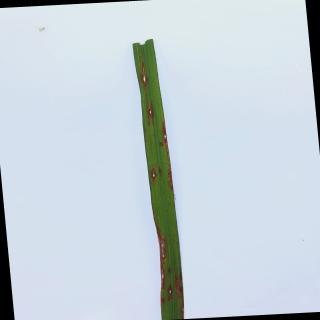Blast: (142, 62, 149, 88), (160, 266, 167, 291), (168, 172, 174, 189), (168, 285, 174, 301), (151, 166, 157, 182), (148, 105, 154, 120), (162, 132, 167, 141), (180, 304, 184, 315), (160, 254, 167, 260), (159, 241, 165, 248), (160, 248, 165, 253), (175, 282, 179, 286), (160, 142, 163, 147)
